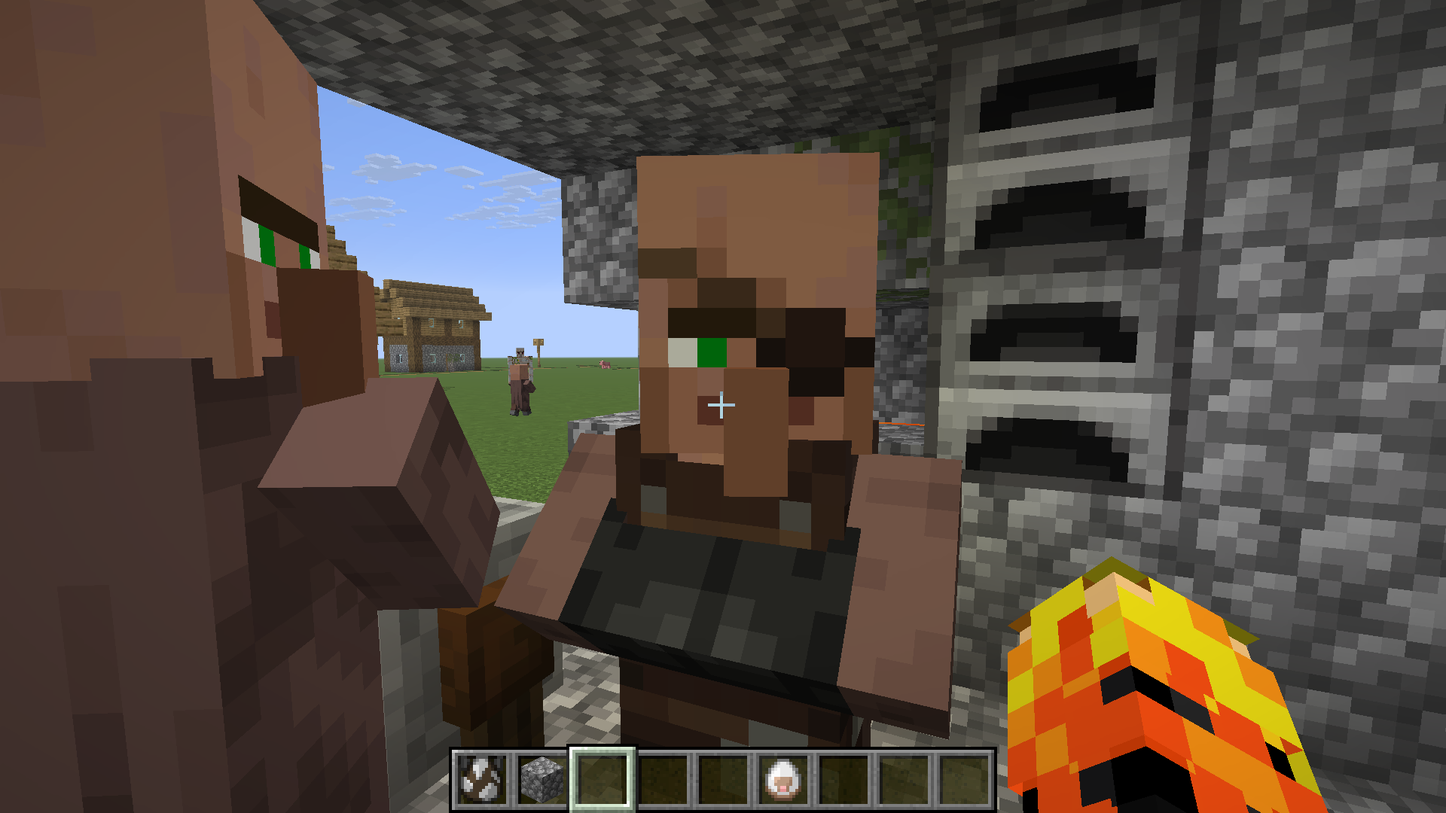stove: (934, 265, 1192, 495), (947, 30, 1199, 264)
villager: (0, 2, 459, 808), (634, 158, 950, 745), (505, 365, 540, 418)
